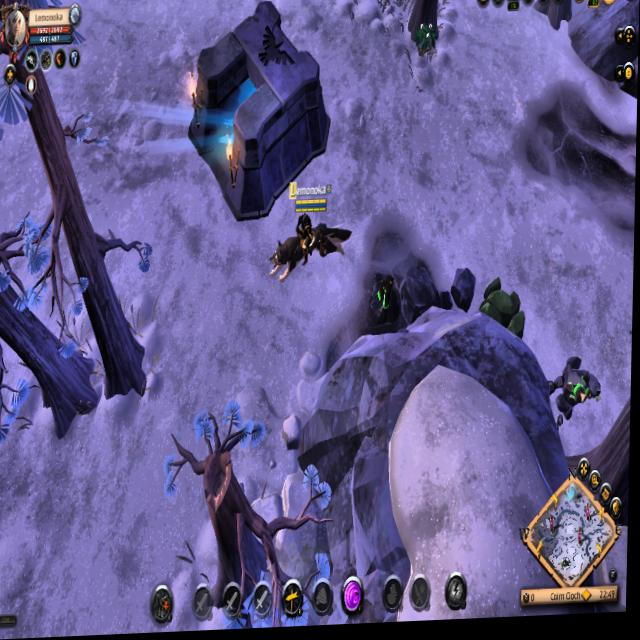fiber tier 3: (413, 15, 440, 67)
ore tier 3: (364, 269, 405, 345)
rock tier 3: (487, 275, 528, 357)
